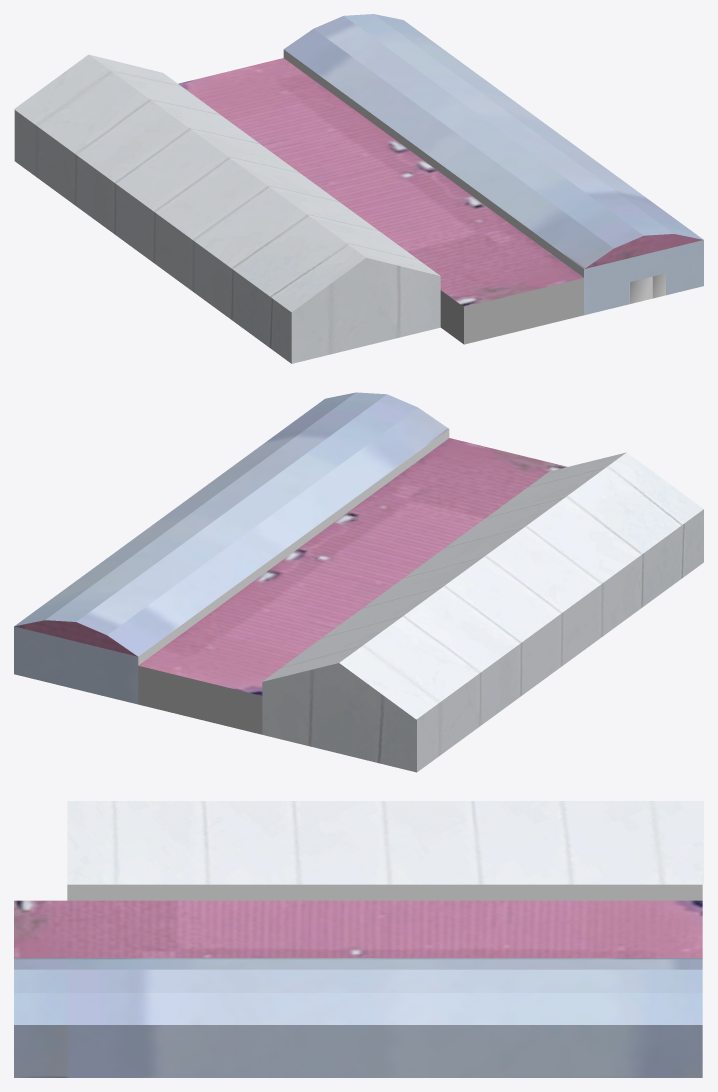
File: Lecu_racepart2.gltf
3 renders of one model, top to bottom at view 1: azimuth 30°, elevation 25°; view 2: azimuth 150°, elevation 25°; view 3: azimuth 270°, elevation 25°, orthographic. The views are drawn at different scales.
Parts seen in each view (by area): view 1: race_part2; view 2: race_part2; view 3: race_part2.
Part boxes in pixels (left/top/right/bottom): race_part2: left=14, top=14, right=703, bottom=363; race_part2: left=14, top=392, right=703, bottom=772; race_part2: left=14, top=801, right=703, bottom=1077.
Size of the model in its own units: 52.67 by 11.39 by 70.57.
